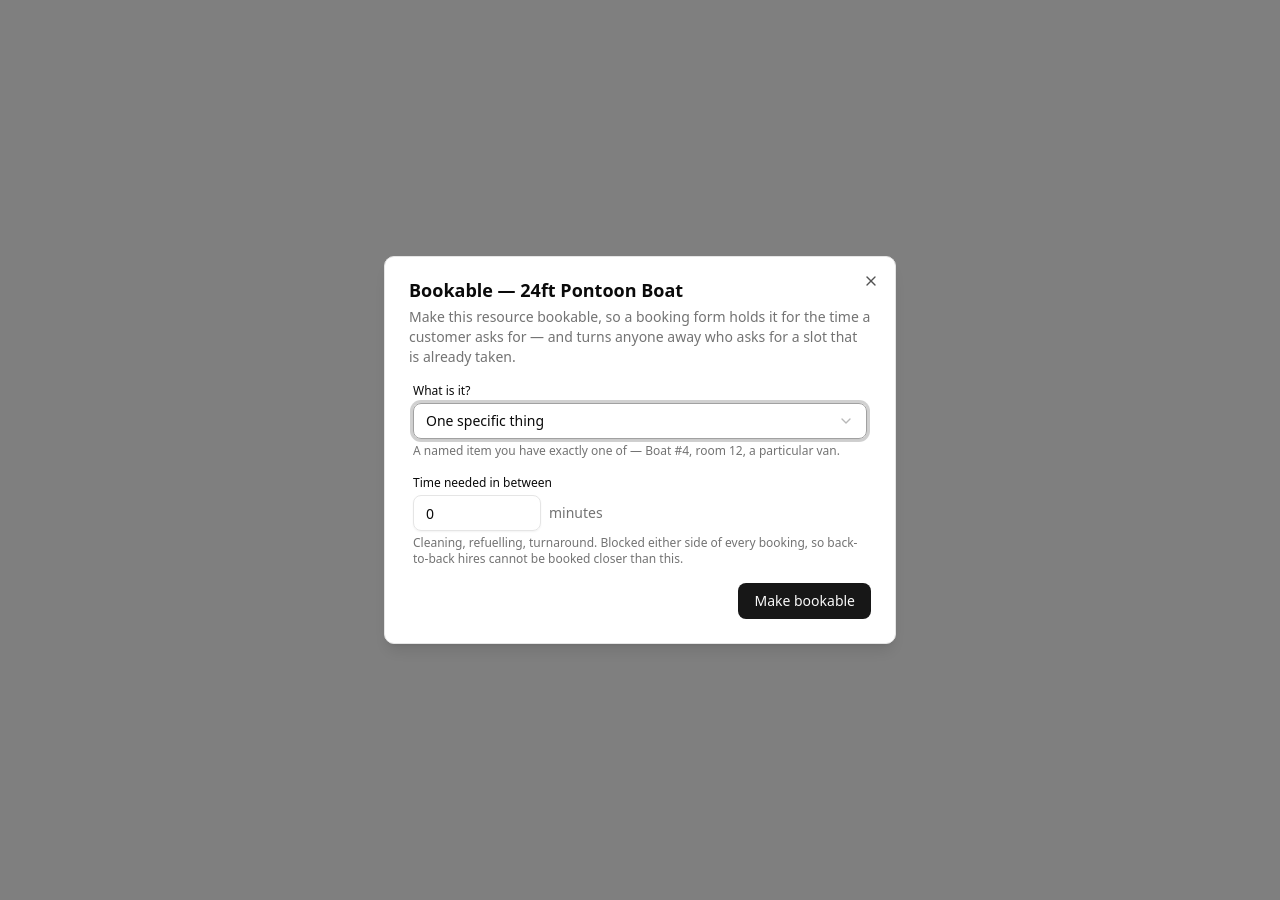
Scenario: BookableDialog — creating a pool › asks for a quantity once the resource is a stock of things
This screenshot has width=1280, height=900.
Click the dropdown named "What is it?" at (485, 420), box [413,403,867,439]
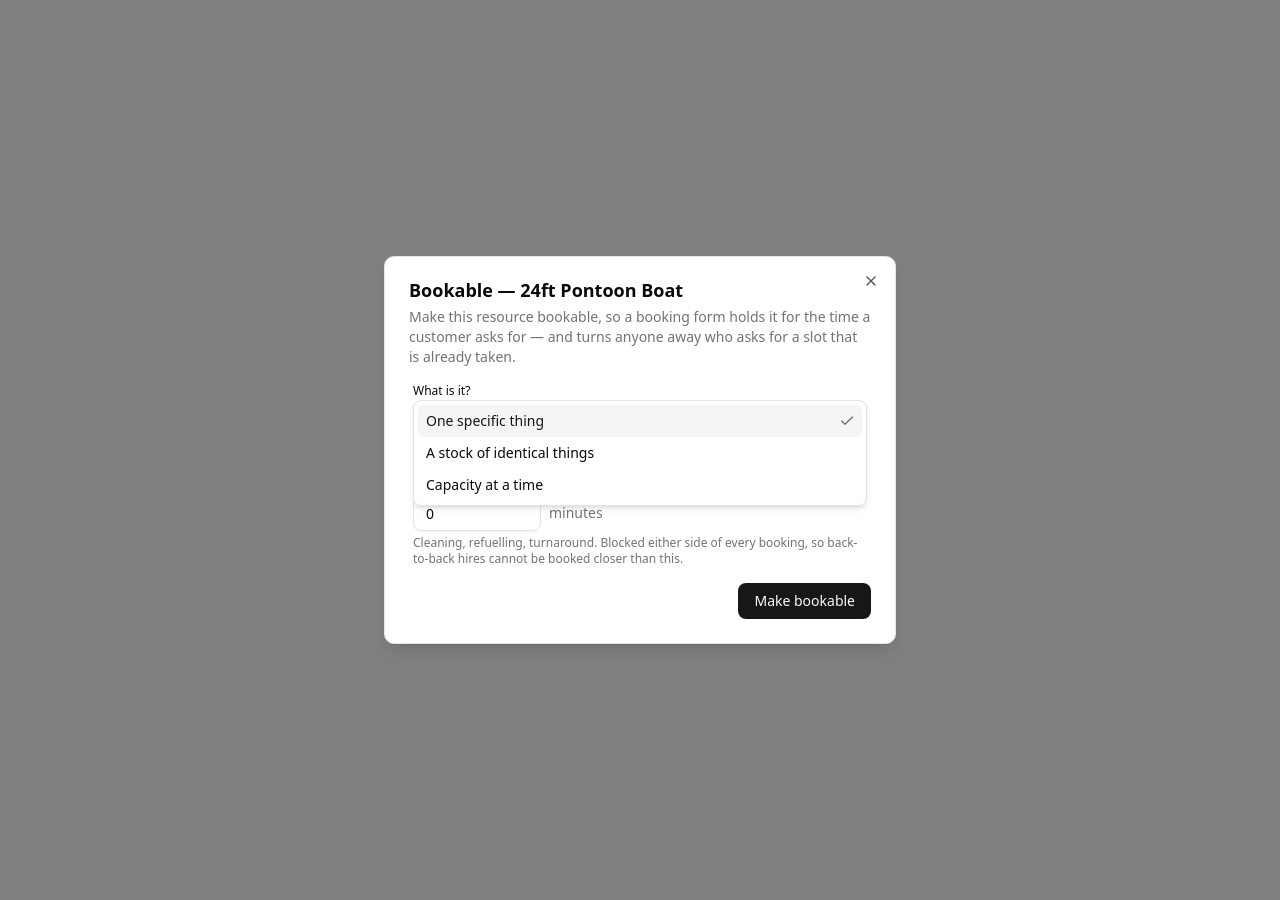
Click the option "A stock of identical things" at (510, 452), box [426,443,594,462]
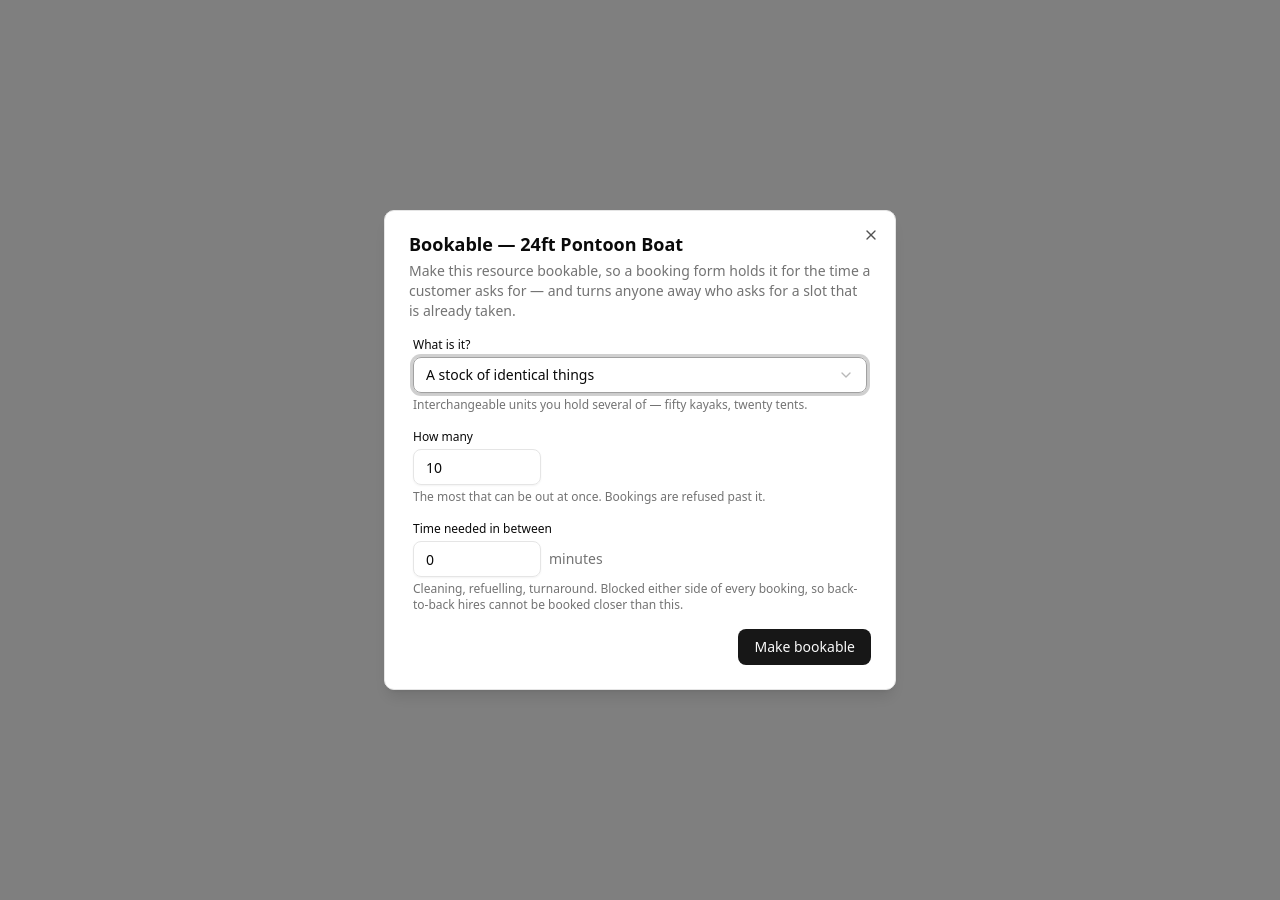
Expected: the number field labelled "How many" is shown, [413,449,541,485]
